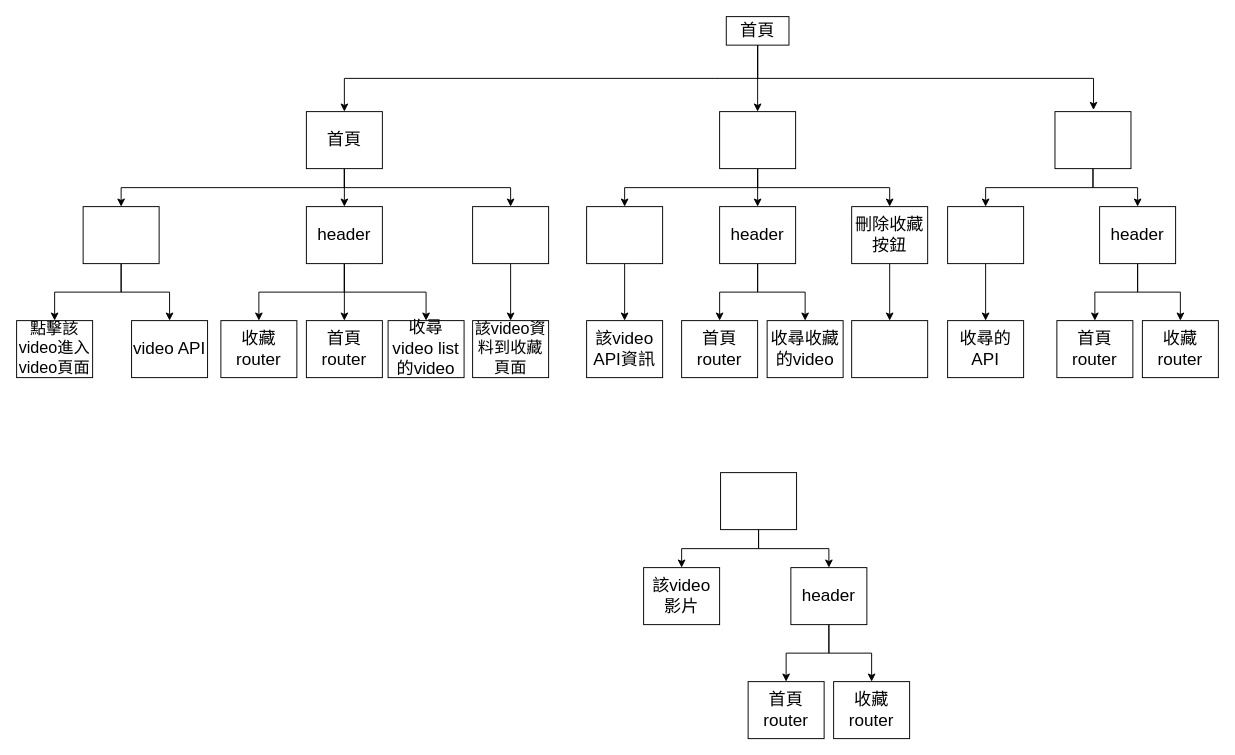
Some shapes in this 1235 by 755 pixel diagram are drawn without their labels. The shapes that lost their labels are listed below. From the top down, each one's centre as x and y in pixels, then its label:
point 757,140: 收藏頁面
point 1092,140: 收尋頁面
point 120,235: Video list
point 510,235: 新增到收藏頁面按鈕
point 624,235: 被收藏的video
point 985,235: 收尋到的video
point 889,349: 刪除該state裡該video資訊
point 758,501: video頁面
